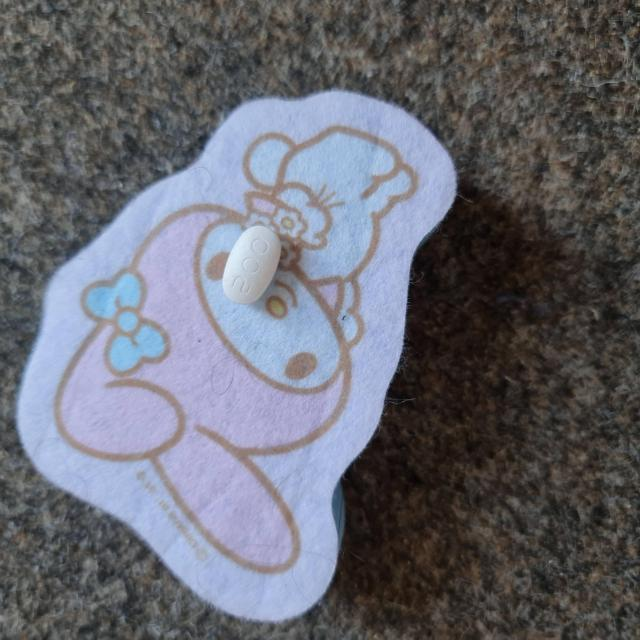pill: (223, 225, 278, 302)
